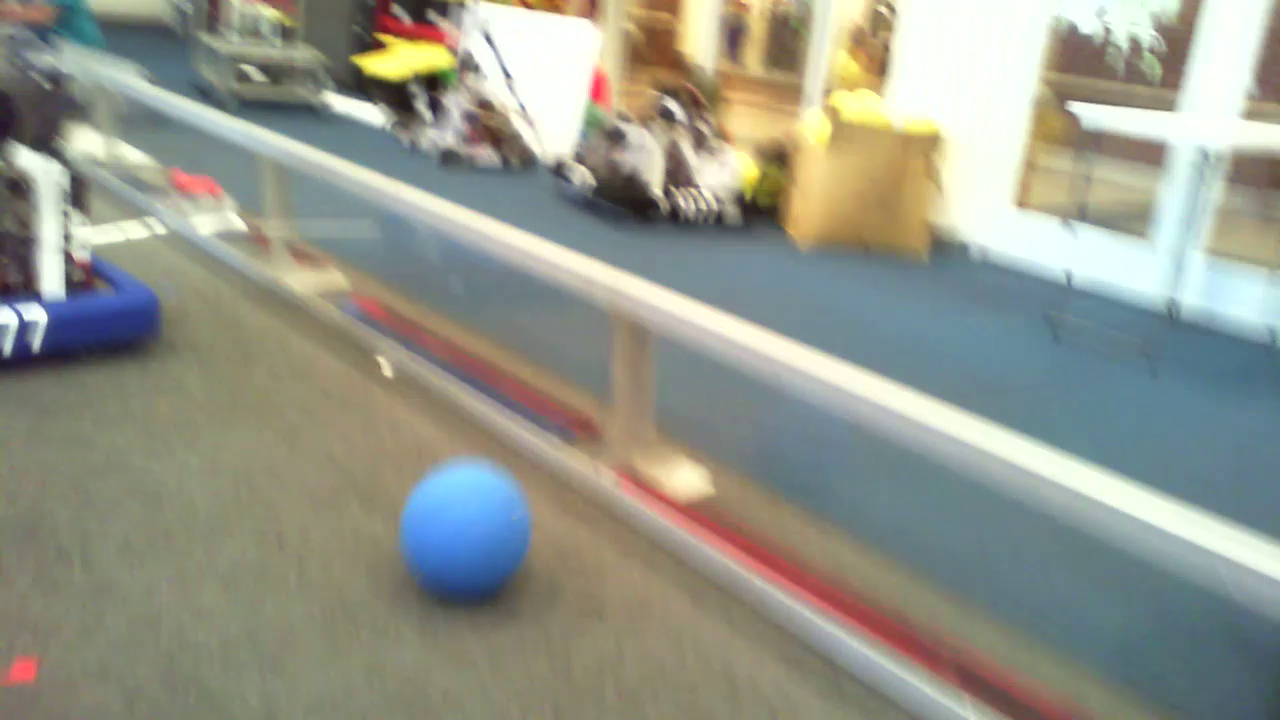blue_cargo: (399, 445, 535, 599)
blue_robot: (1, 119, 187, 383)
